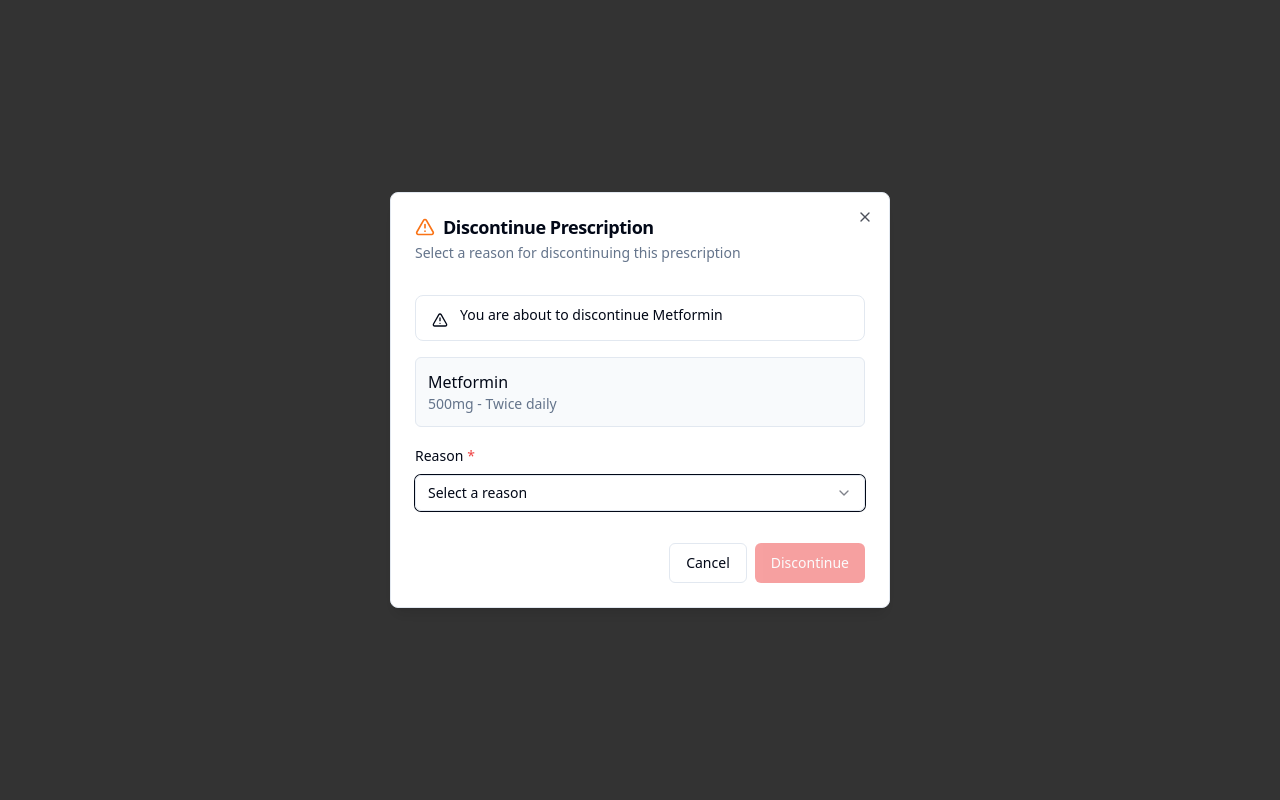
Test: DiscontinueDialog › Reason Selection › selects reason and updates dropdown display
Click the dropdown.
click(478, 492)  # box [415,475,865,511]
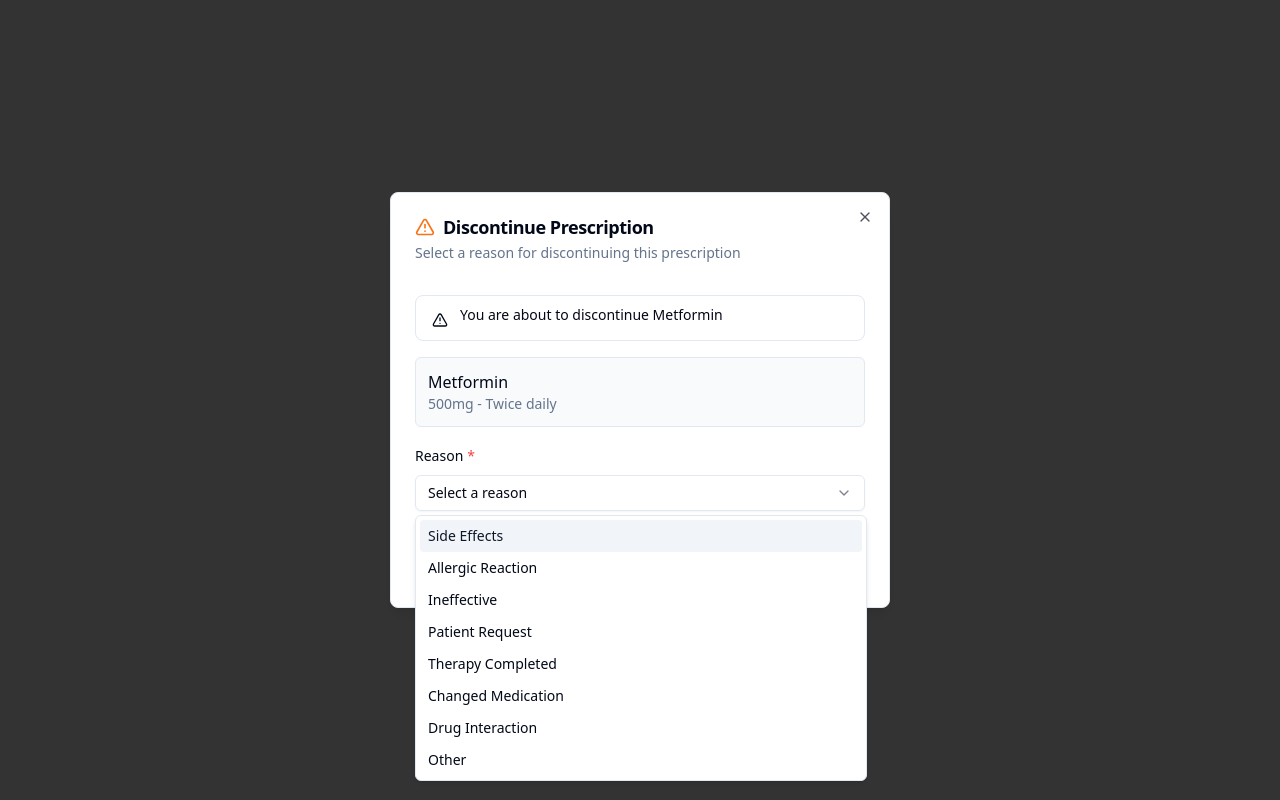
Click the option "Side Effects".
click(466, 536)  # box [420,520,862,552]
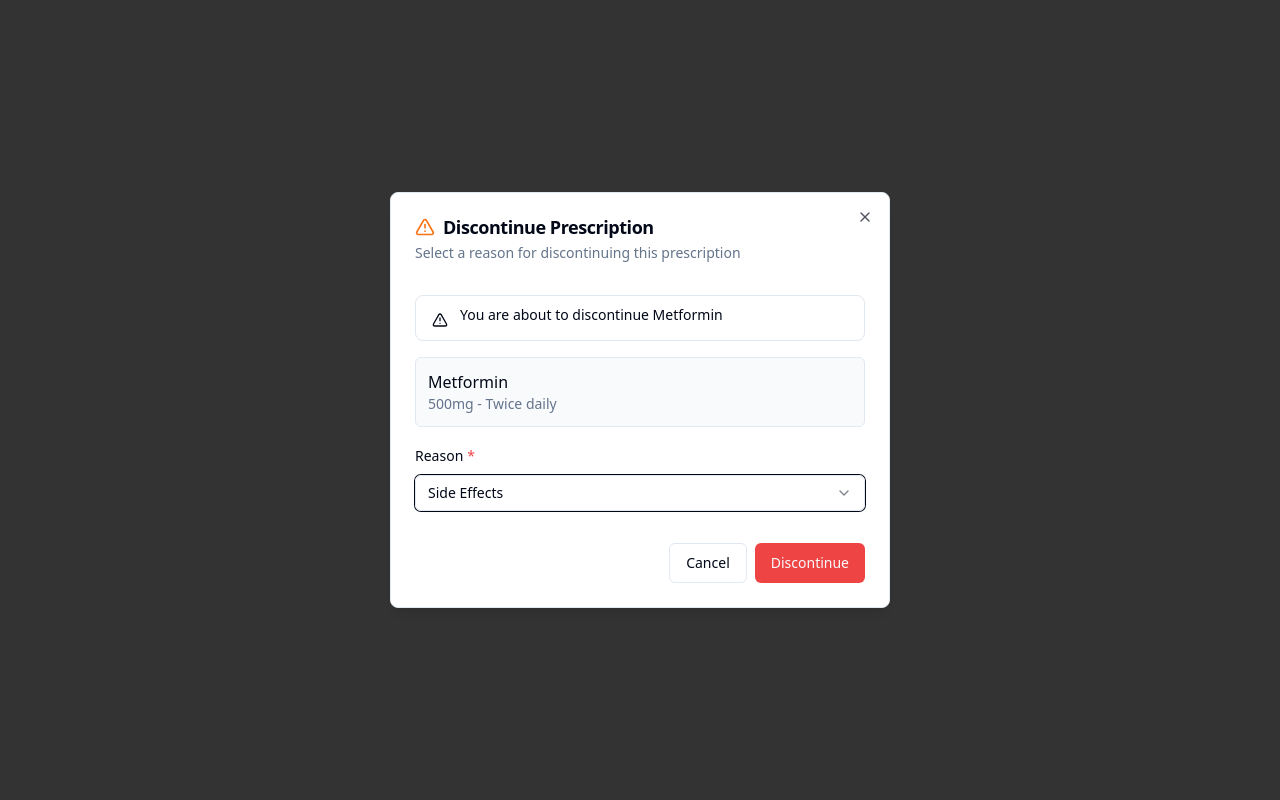
expect the dropdown reads "Side Effects": met, box [415,475,865,511]
